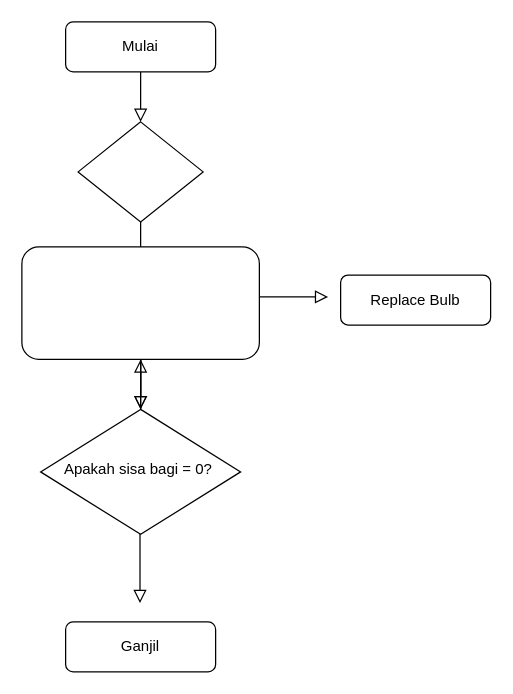
This 513x694 diagram has some shape labels left out. Each missing label, with the box of its shape:
Bilangan di bagi 2 dengan operasi sisa bagi: (21, 246, 259, 359)
Masukkan bilangan bulat: (77, 121, 203, 222)
